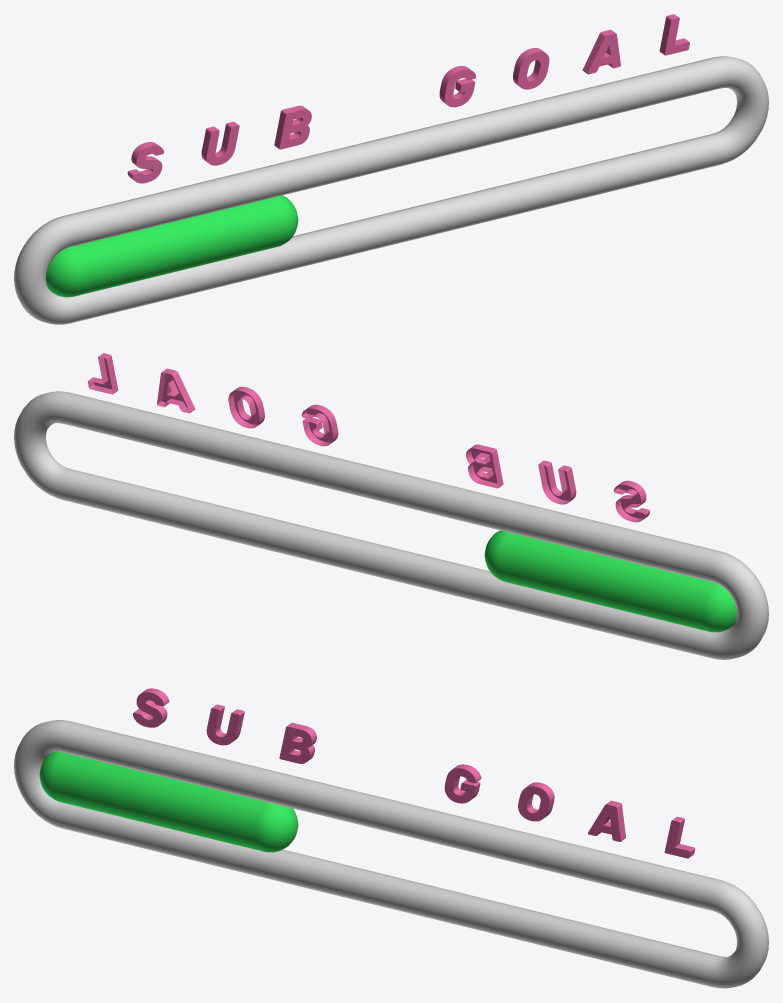
The model's file is sub_goal.glb.
3 renders of one model, top to bottom at view 1: azimuth 30°, elevation 25°; view 2: azimuth 150°, elevation 25°; view 3: azimuth 330°, elevation 25°, orthographic.
Parts seen in each view (by area): view 1: sub_goal; view 2: sub_goal; view 3: sub_goal.
Boxes of the visible parts, x1,y1,x2,y2 form: sub_goal: [14, 14, 768, 324]; sub_goal: [14, 353, 768, 659]; sub_goal: [14, 688, 768, 988].
Size of the model in its own units: 2.25 by 0.4462 by 0.1441.
